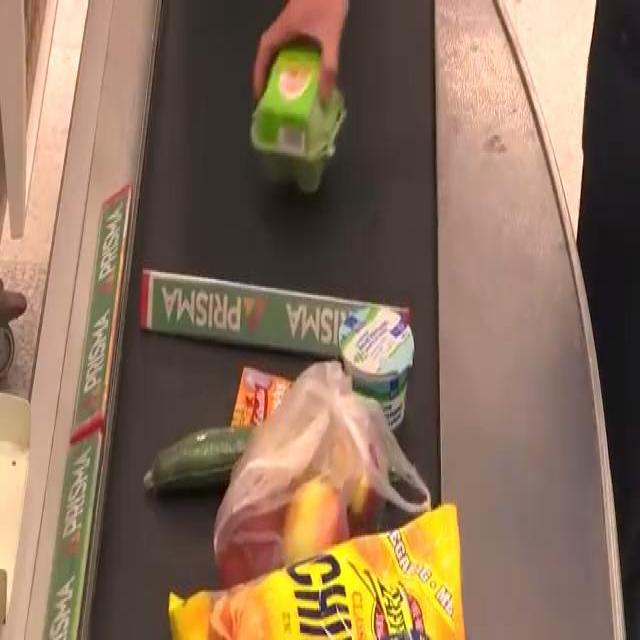food-box: (172, 510, 466, 638), (250, 35, 344, 201), (342, 298, 408, 434), (228, 363, 342, 439)
fruit: (219, 369, 400, 575)
vegetable: (136, 422, 300, 492)
